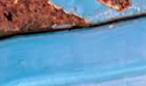rust: (2, 1, 91, 35), (98, 1, 134, 11)
